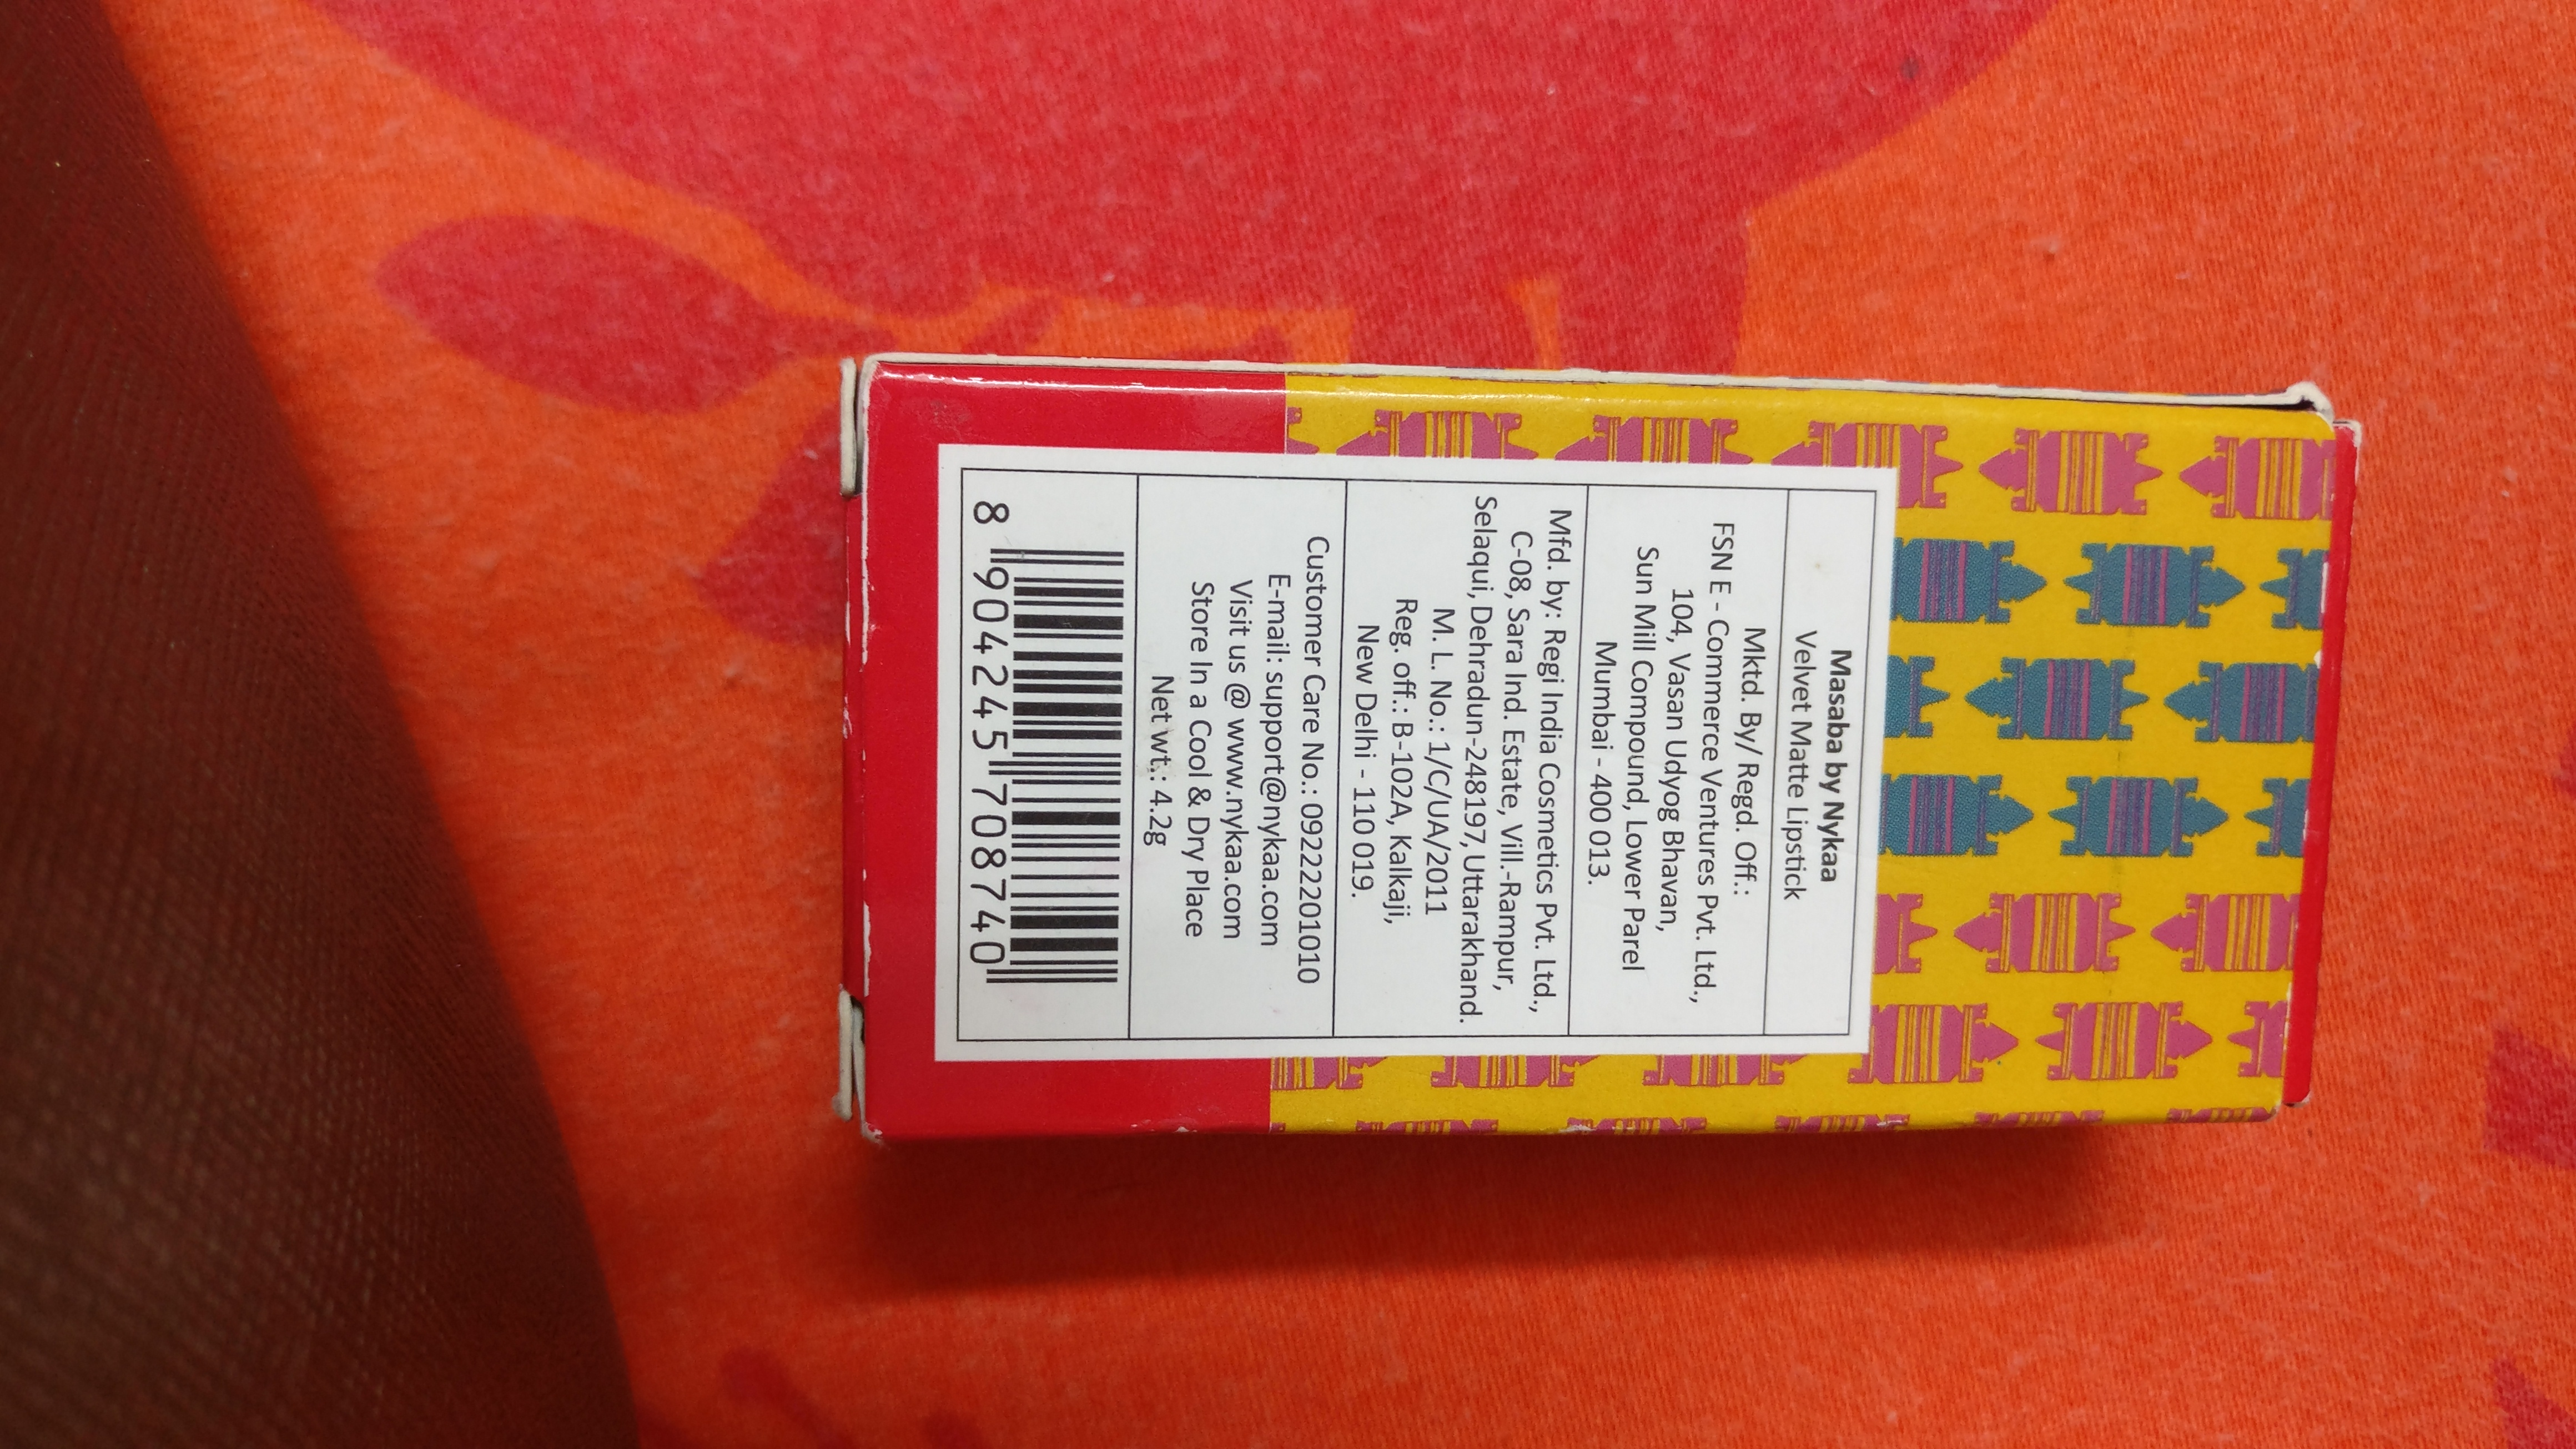barcode: (955, 494, 1146, 1003)
